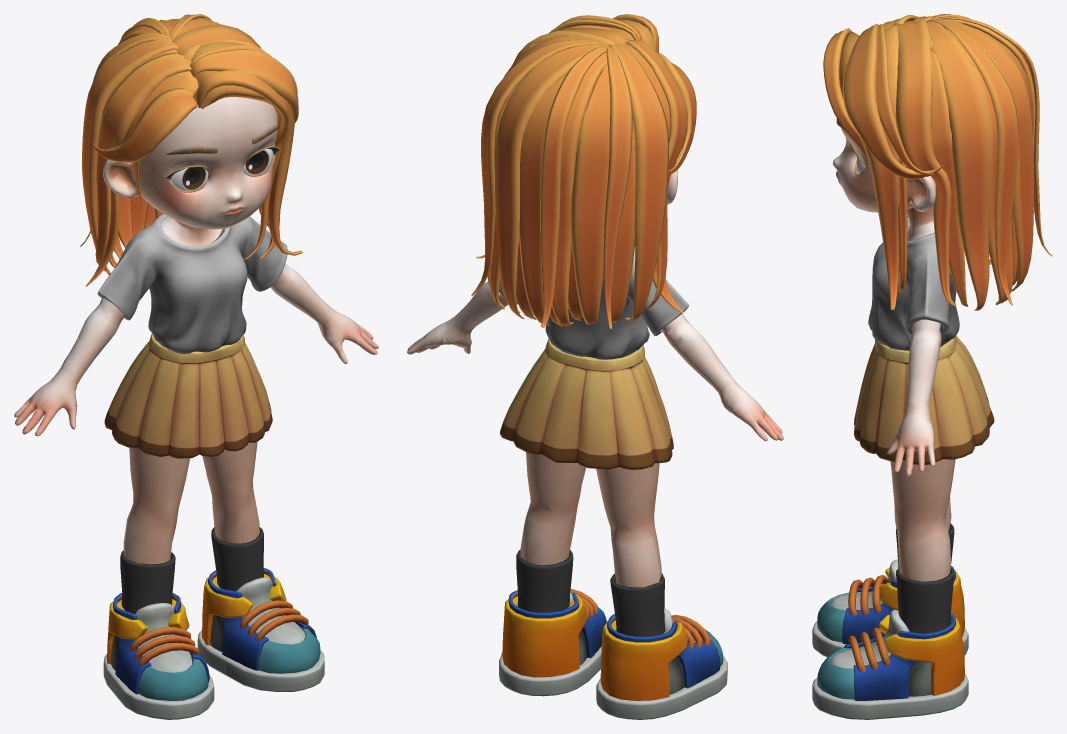
3 views of the same model, side by side, from view 1: azimuth 30°, elevation 25°; view 2: azimuth 150°, elevation 25°; view 3: azimuth 270°, elevation 25° (orthographic). The views are drawn at different scales.
Visible parts, largest first — view 1: pants1, body_base, hair2, top1; view 2: hair2, pants1, body_base, top1; view 3: hair2, pants1, body_base, top1.
Boxes of the visible parts, x1,y1,x2,y2 form: pants1: [103, 333, 324, 719]; body_base: [14, 97, 378, 564]; hair2: [80, 14, 302, 286]; top1: [97, 214, 287, 353]; hair2: [471, 14, 696, 328]; pants1: [499, 338, 727, 719]; body_base: [407, 164, 783, 587]; top1: [499, 246, 688, 359]; hair2: [823, 14, 1052, 310]; pants1: [812, 335, 994, 719]; body_base: [833, 118, 955, 581]; top1: [868, 216, 959, 350].
Size of the model in its own units: 85.36 by 145 by 48.65.
